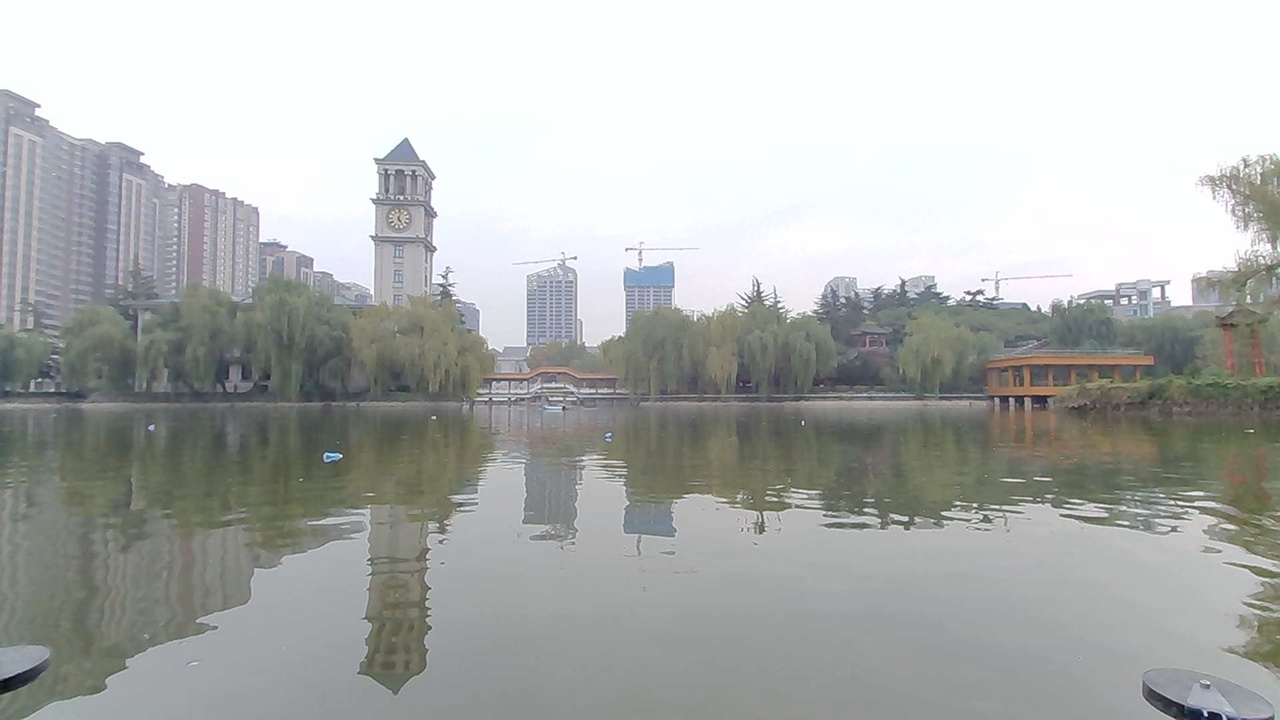bottle: (587, 422, 621, 449), (134, 416, 172, 440), (789, 407, 819, 433), (314, 449, 351, 470), (422, 406, 451, 428)
